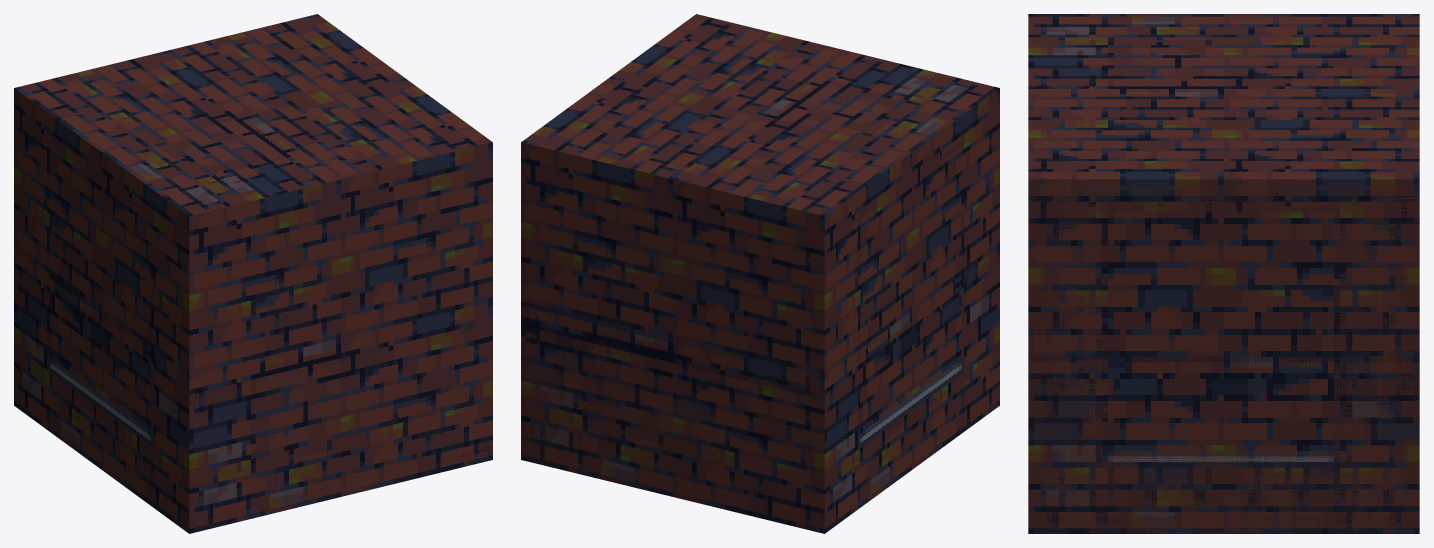
The model's file is 64x64-building-tiles.glb.
3 views of the same model, side by side, from view 1: azimuth 30°, elevation 25°; view 2: azimuth 150°, elevation 25°; view 3: azimuth 270°, elevation 25° (orthographic). The views are drawn at different scales.
Visible parts, largest first — view 1: building-1-col, building-3-col, roof-1-col, balcony-col; view 2: building-1-col, building-3-col, roof-1-col, balcony-col; view 3: building-1-col, building-3-col, roof-1-col, balcony-col.
Boxes of the visible parts, x1,y1,x2,y2 form: building-1-col: (14,14,492,533); building-3-col: (14,16,492,532); roof-1-col: (49,273,492,532); balcony-col: (191,307,490,530); building-1-col: (521,14,999,533); building-3-col: (521,15,999,532); roof-1-col: (521,278,961,532); balcony-col: (521,302,824,530); building-1-col: (1028,14,1419,533); building-3-col: (1028,14,1419,533); roof-1-col: (1028,356,1419,533); balcony-col: (1028,356,1419,533).
Size of the model in its own units: 6.4 by 6.4 by 6.4.
1 material, 1 textured.
